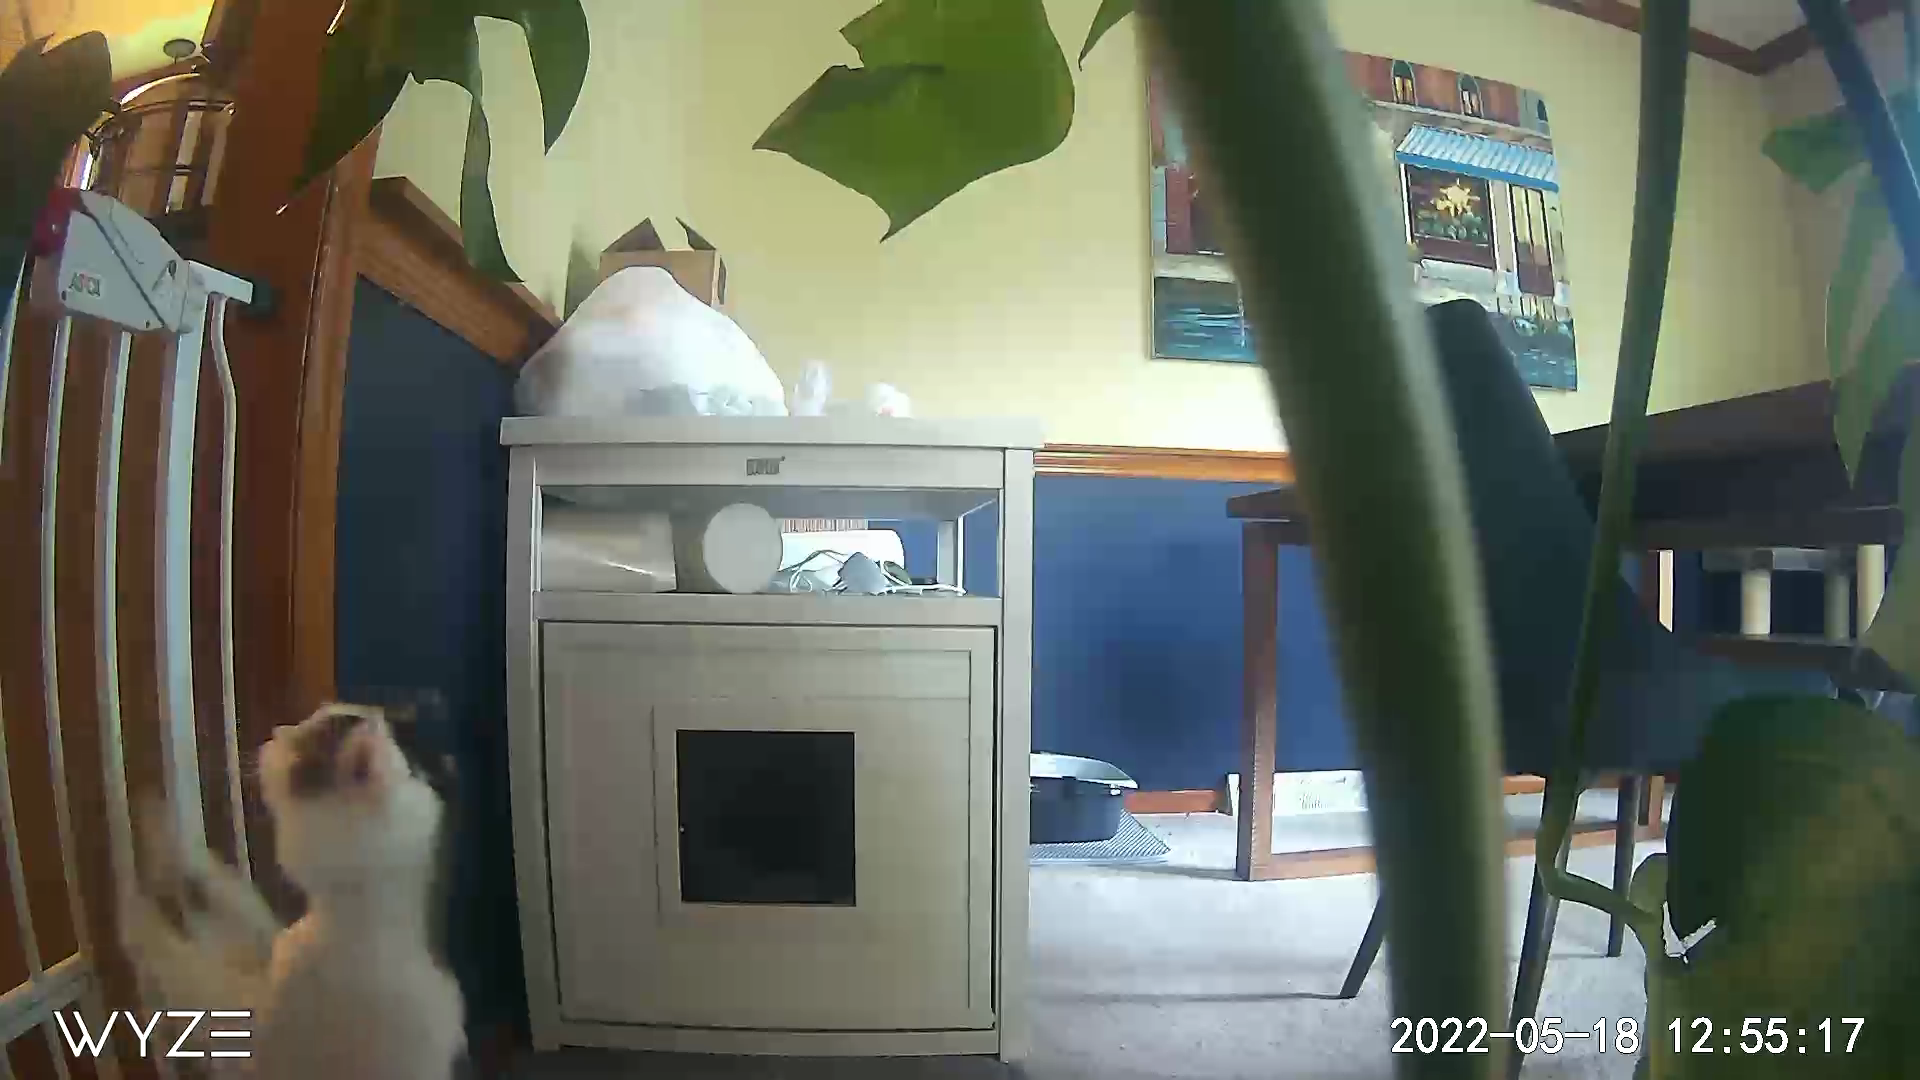maoxin: (91, 665, 473, 1001)
